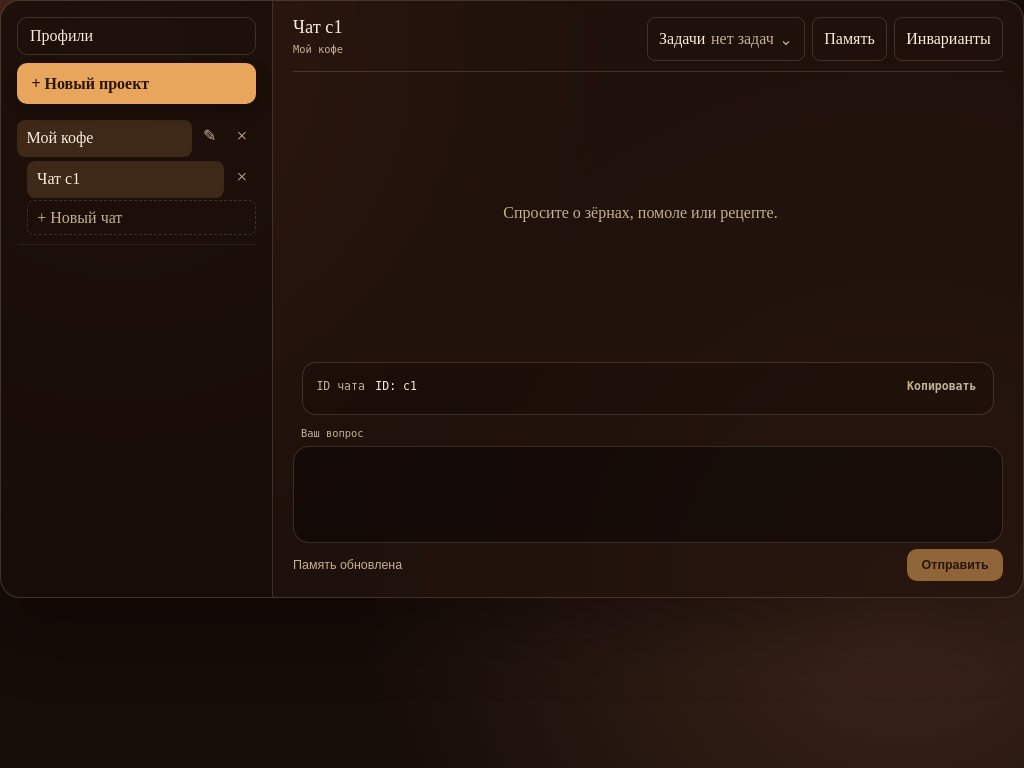
Test case: BaristaWorkspace › повторяет ошибочный task input без второго пользовательского сообщения
In the text box labelled "Ваш вопрос": (648, 494) [293, 446, 1003, 543], type "Что приготовить?"
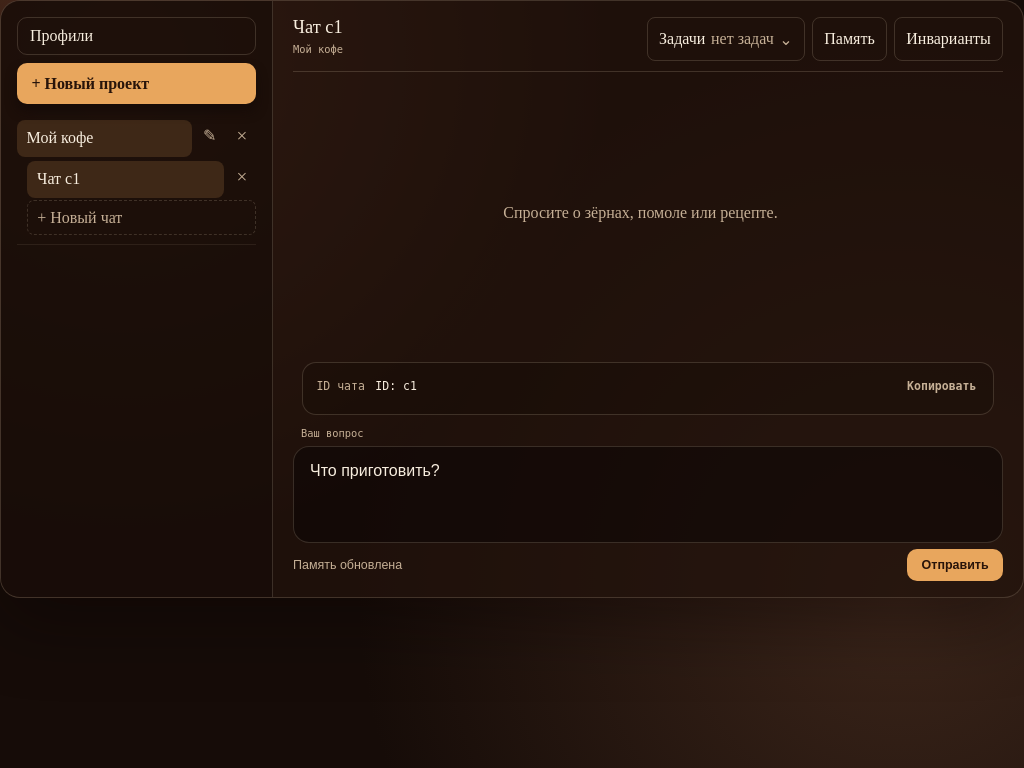
Click the button "Отправить": (955, 565) [907, 549, 1003, 581]
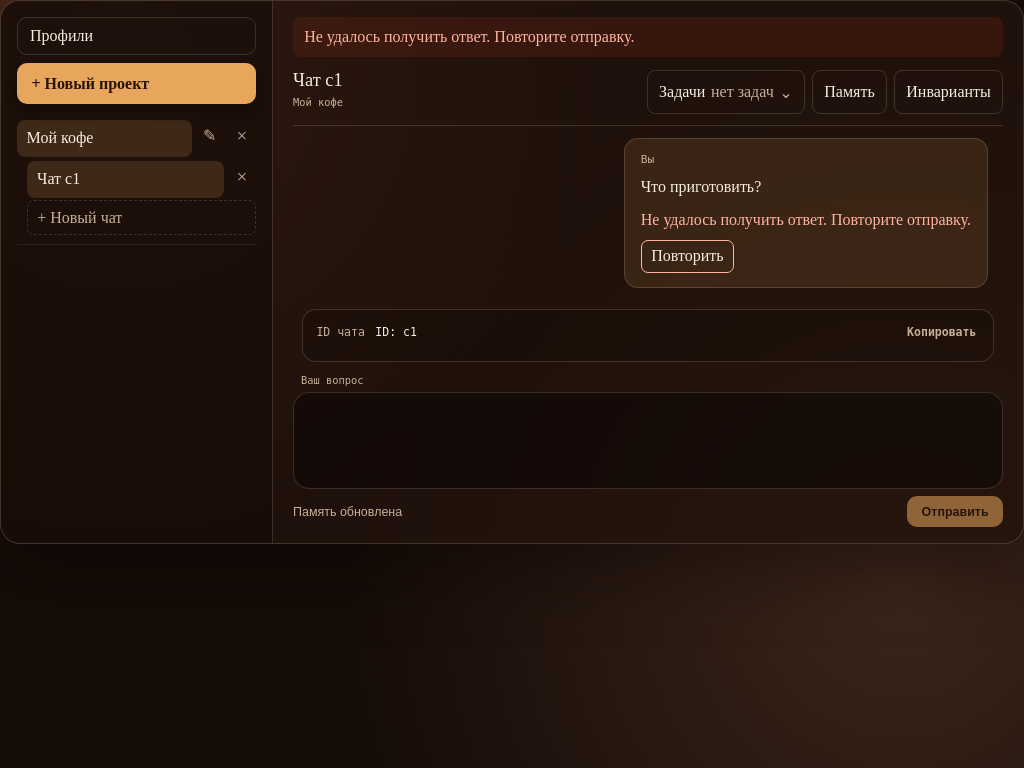
Result: the text "Что приготовить?" is shown once at [641, 178, 761, 195]
Click the button "Повторить": (687, 256) [641, 240, 734, 272]
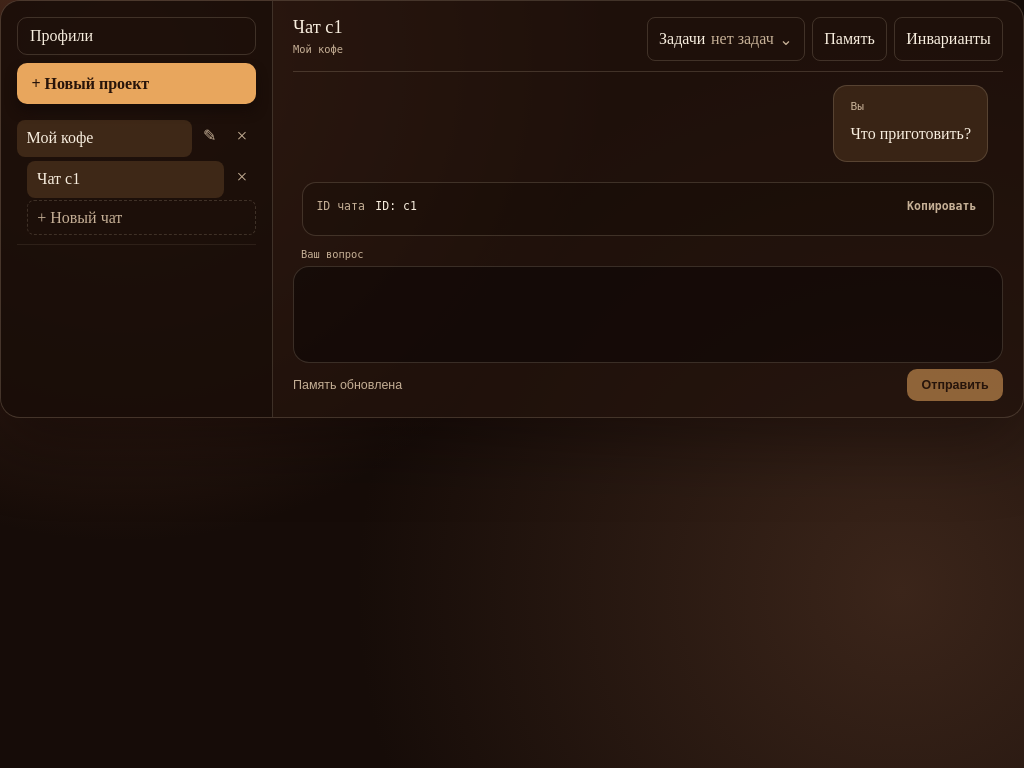
Result: the text "Что приготовить?" is shown once at [850, 121, 971, 146]
